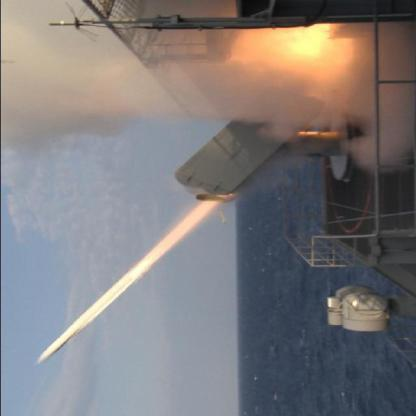MIL_TBM: (25, 273, 132, 370)
